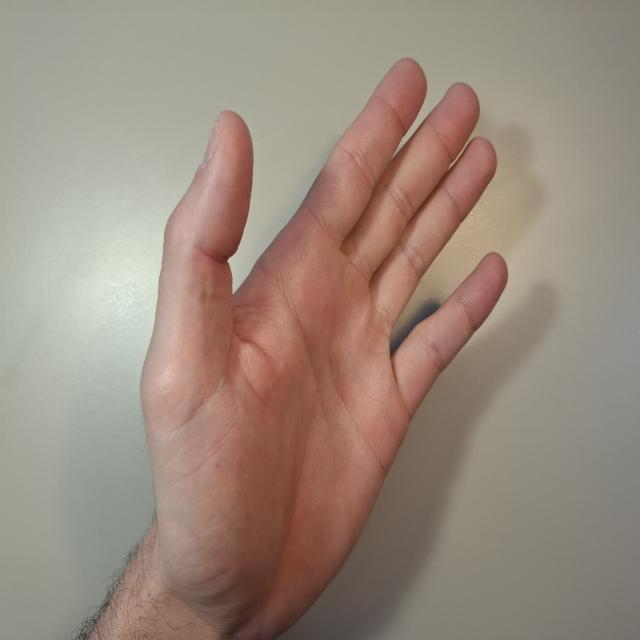glove_off: (137, 55, 510, 638)
